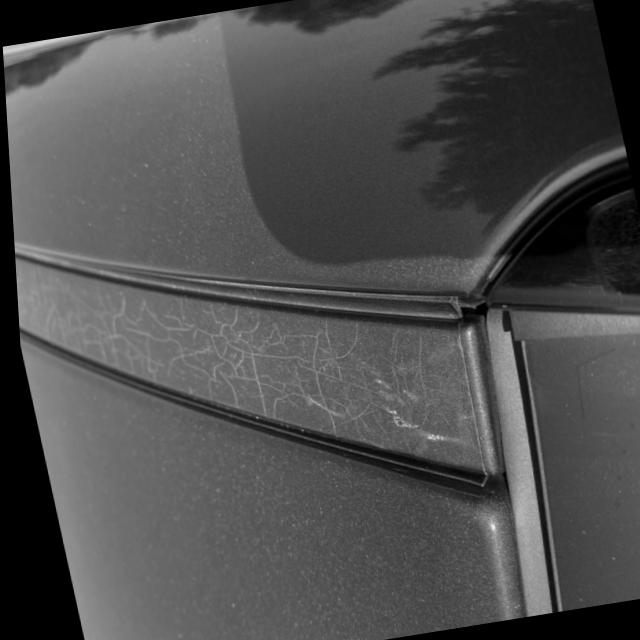Paint-Crack: (15, 260, 434, 443)
